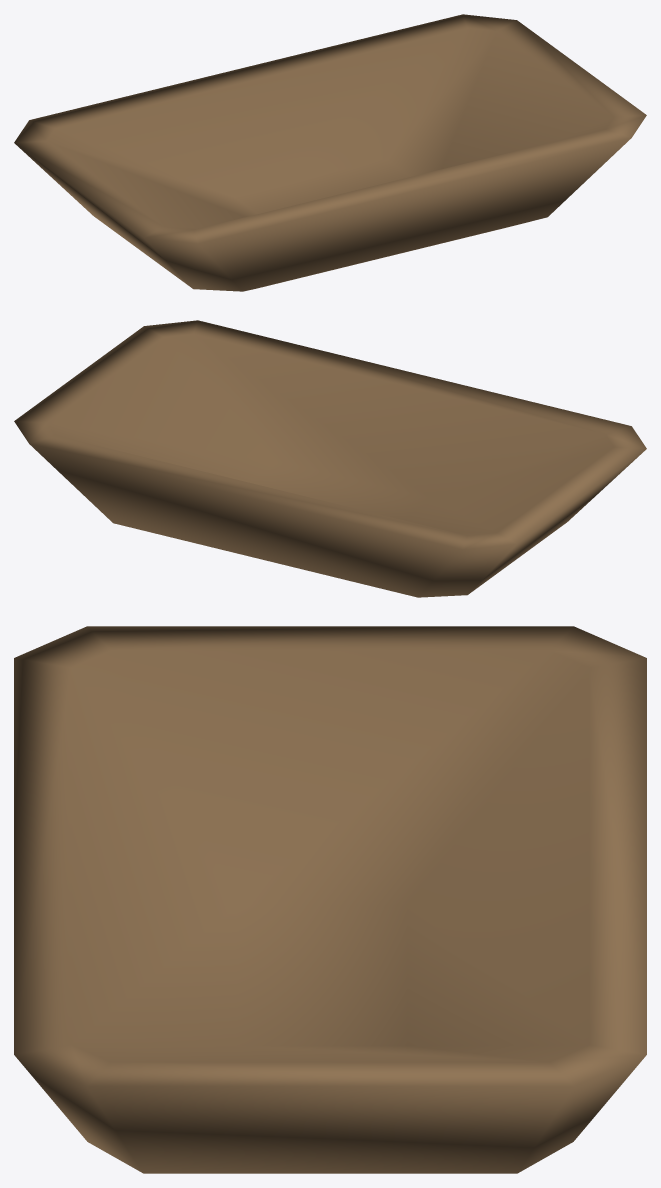
Rendered from rpgpp_ag_bowl_wood_01.fbx.
The picture shows the model from 3 angles, top to bottom: view 1: azimuth 30°, elevation 25°; view 2: azimuth 150°, elevation 25°; view 3: azimuth 270°, elevation 25°; orthographic projection. The views are drawn at different scales.
Visible parts, largest first — view 1: rpgpp_ag_bowl_wood_01; view 2: rpgpp_ag_bowl_wood_01; view 3: rpgpp_ag_bowl_wood_01.
Part boxes in pixels (x1=…): rpgpp_ag_bowl_wood_01: x1=14, y1=14, x2=646, y2=291; rpgpp_ag_bowl_wood_01: x1=14, y1=320, x2=646, y2=597; rpgpp_ag_bowl_wood_01: x1=14, y1=626, x2=646, y2=1173.
Bounding box in the file's own units: 0.4024 × 0.0683 × 0.234.
